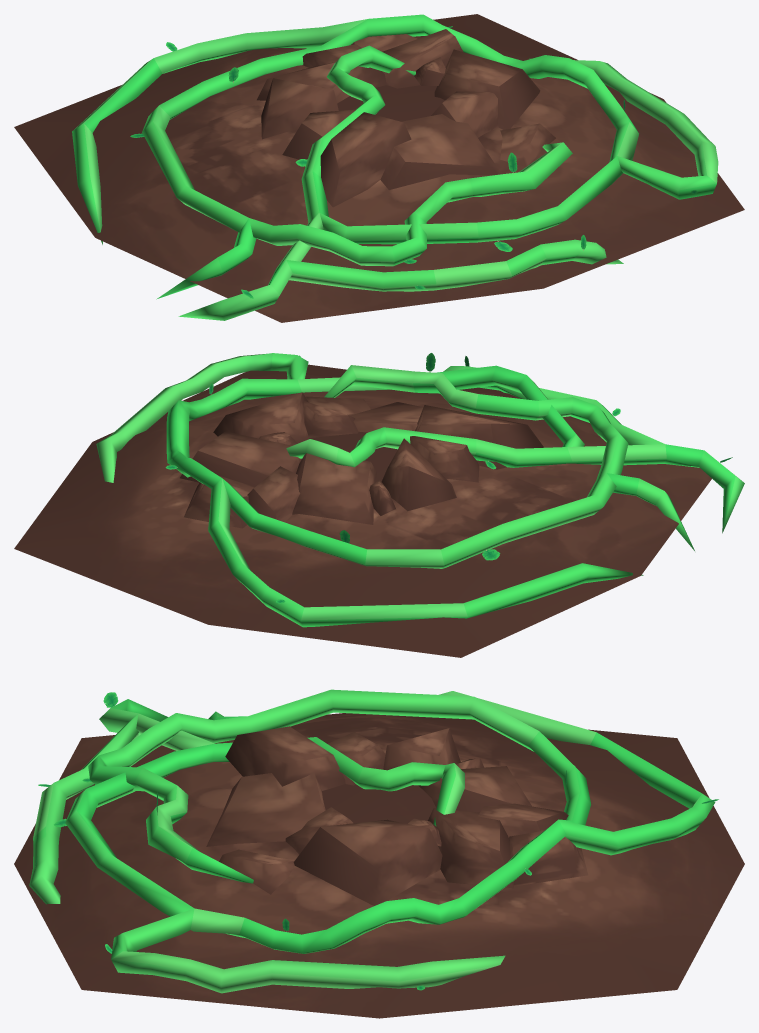
The model's file is MelonPlant.fbx.
3 renders of one model, top to bottom at view 1: azimuth 30°, elevation 25°; view 2: azimuth 150°, elevation 25°; view 3: azimuth 270°, elevation 25°, orthographic. The views are drawn at different scales.
Parts seen in each view (by area): view 1: Dirtplane, MelonVines; view 2: Dirtplane, MelonVines; view 3: Dirtplane, MelonVines.
Part boxes in pixels (x1,y1,x2,y2): Dirtplane: (14, 14, 744, 322); MelonVines: (72, 14, 718, 320); Dirtplane: (14, 364, 711, 657); MelonVines: (96, 353, 744, 627); Dirtplane: (14, 713, 744, 1018); MelonVines: (29, 689, 718, 993).
Bounding box in the file's own units: 189 × 40.2 × 189.
